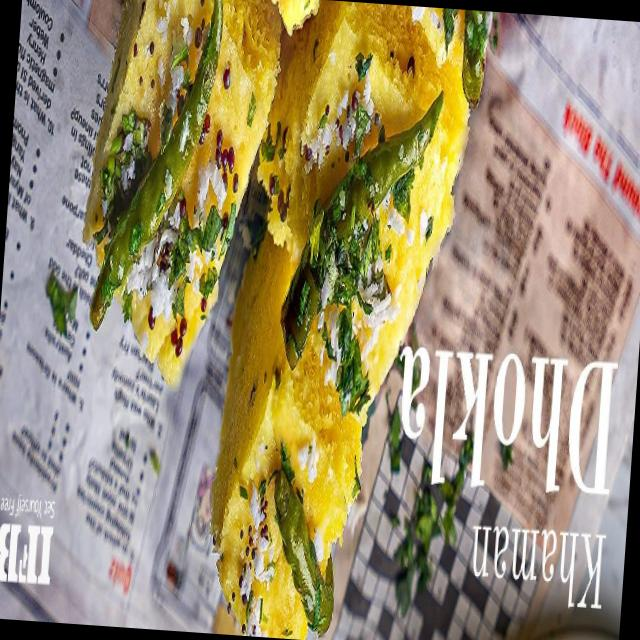dhokla: (96, 0, 454, 635)
